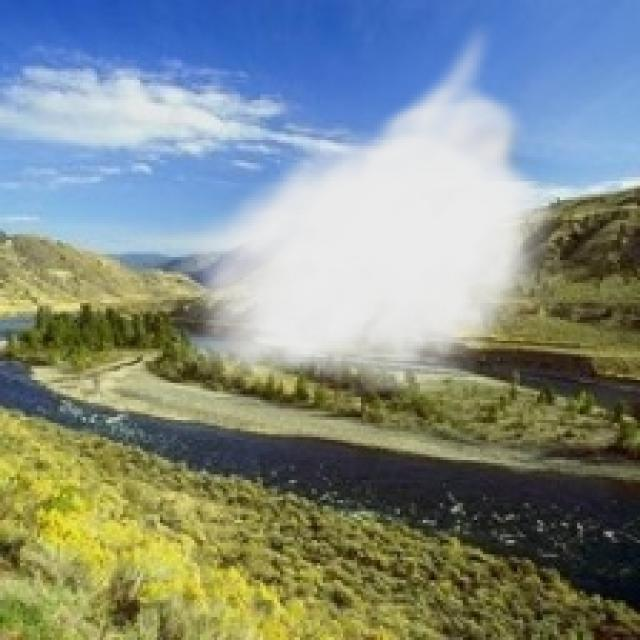Smoke: (166, 17, 572, 406)
